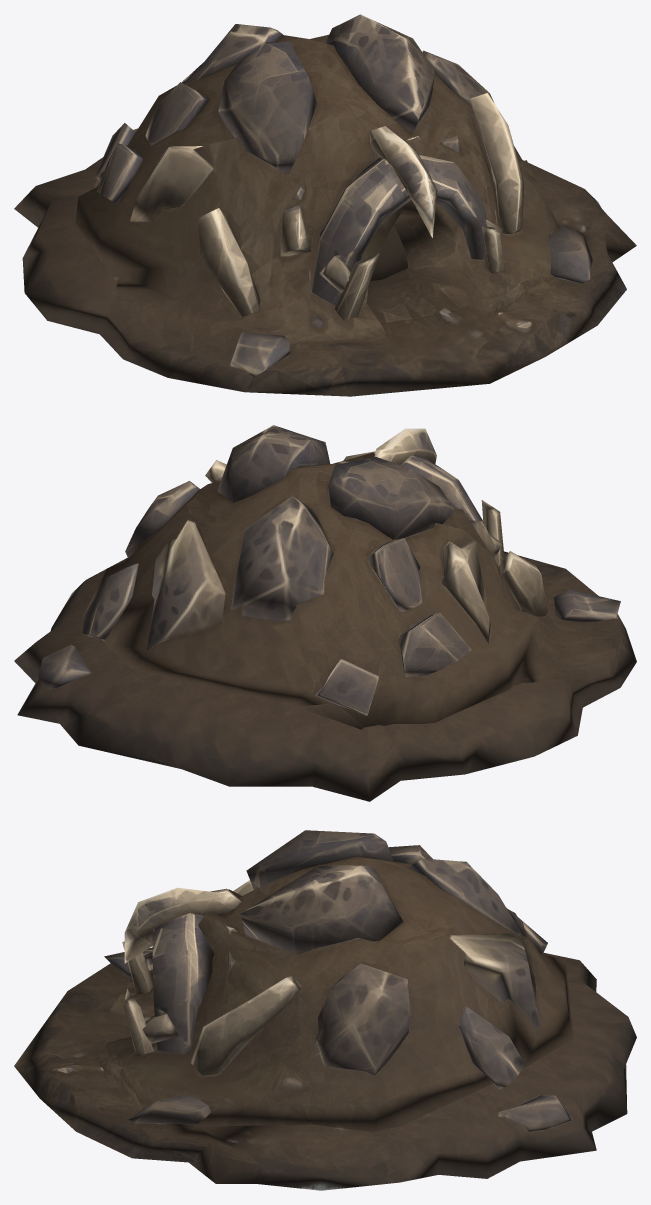
Rendered from Armadillo Lair.glb.
3 views of the same model, one above another, from view 1: azimuth 30°, elevation 25°; view 2: azimuth 150°, elevation 25°; view 3: azimuth 270°, elevation 25° (orthographic).
Size of the model in its own units: 1.94 by 0.791 by 2.
Materials: 1 (1 with a texture image).
